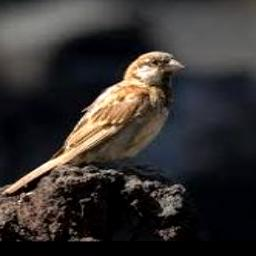Sparrow: (2, 50, 185, 196)
